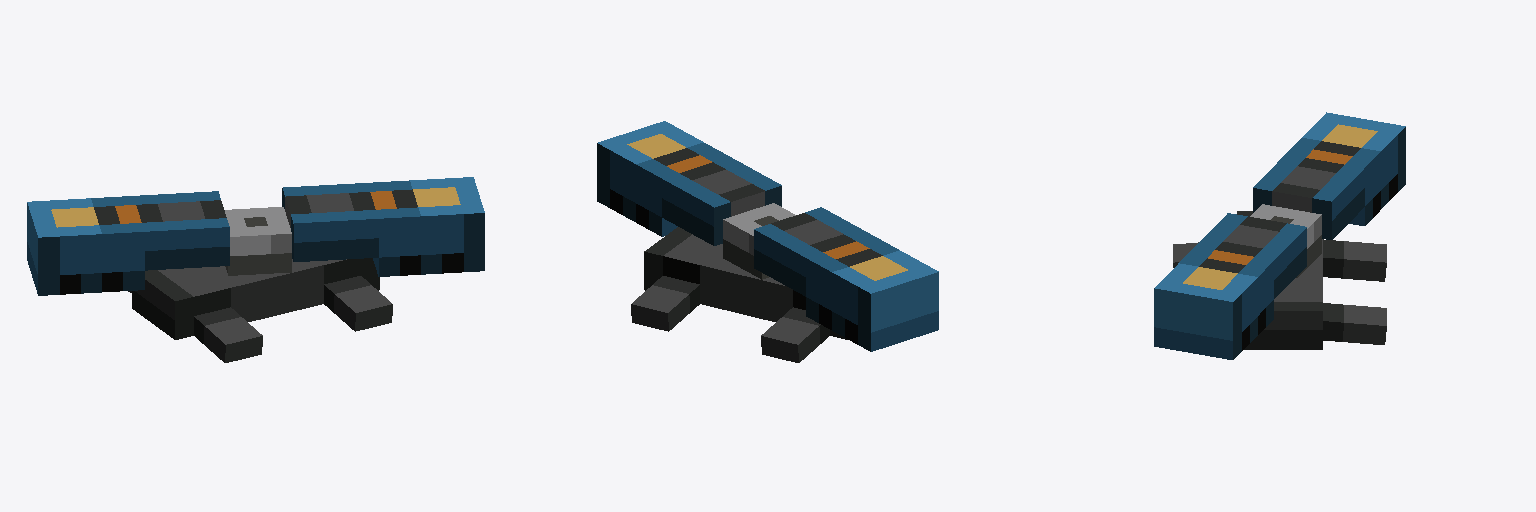
3 renders of one model, left to right at view 1: azimuth 30°, elevation 25°; view 2: azimuth 150°, elevation 25°; view 3: azimuth 270°, elevation 25°, orthographic.
Visible parts, largest first — view 1: rightarm, base, legs, screw; view 2: rightarm, base, legs, screw; view 3: rightarm, legs, base, screw.
Part boxes in pixels (left/top/right/bottom): rightarm: left=27, top=177, right=484, bottom=295; base: left=132, top=258, right=379, bottom=339; legs: left=128, top=276, right=392, bottom=362; screw: left=225, top=207, right=291, bottom=275; rightarm: left=597, top=121, right=938, bottom=351; base: left=644, top=227, right=847, bottom=339; legs: left=631, top=276, right=829, bottom=362; screw: left=723, top=203, right=795, bottom=279; rightarm: left=1154, top=112, right=1405, bottom=359; legs: left=1173, top=239, right=1386, bottom=344; base: left=1237, top=211, right=1322, bottom=349; screw: left=1250, top=204, right=1321, bottom=277.
Size of the model in its own units: 1.31 by 0.313 by 0.7332.
Materials: 1 (1 with a texture image).